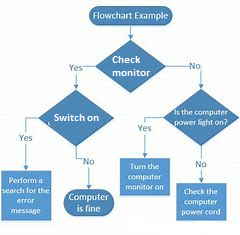arrow: (140, 116, 166, 158), (162, 64, 203, 89), (74, 144, 96, 189), (21, 116, 38, 170), (73, 65, 99, 91), (197, 144, 206, 184), (128, 22, 135, 40)
decision: (162, 86, 240, 147), (36, 89, 115, 148), (94, 39, 167, 94)
process: (1, 169, 53, 222), (118, 156, 172, 196), (174, 180, 226, 221)
terminator: (88, 5, 173, 27), (63, 188, 115, 217)
text: (1, 176, 52, 216), (180, 187, 221, 218), (124, 162, 165, 192), (172, 108, 229, 127), (110, 54, 151, 79), (92, 10, 168, 22), (67, 193, 110, 213), (52, 113, 99, 123), (67, 63, 83, 73), (17, 134, 34, 143), (136, 123, 153, 131), (187, 61, 202, 70), (82, 156, 95, 166), (194, 160, 208, 168)
